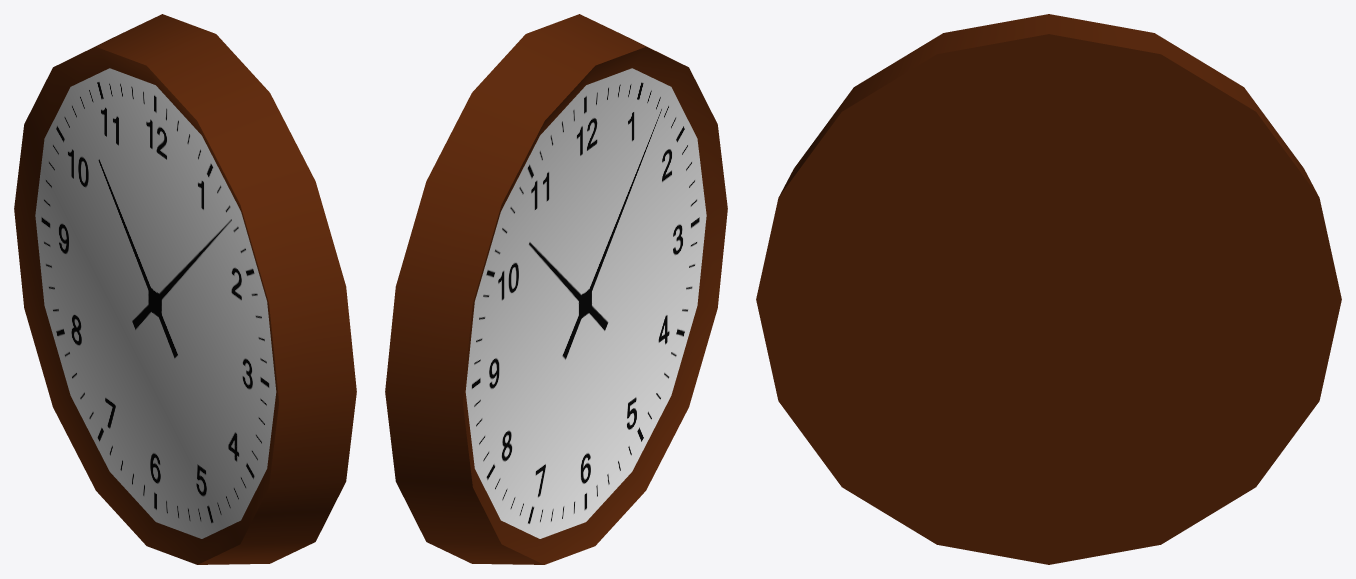
Rendered from clock.fbx.
3 renders of one model, left to right at view 1: azimuth 30°, elevation 25°; view 2: azimuth 150°, elevation 25°; view 3: azimuth 270°, elevation 25°, orthographic. The views are drawn at different scales.
Visible parts, largest first — view 1: Цилиндр; view 2: Цилиндр; view 3: Цилиндр.
Boxes of the visible parts, x1,y1,x2,y2 form: Цилиндр: [14, 14, 356, 564]; Цилиндр: [385, 14, 727, 564]; Цилиндр: [756, 14, 1341, 564].
Size of the model in its own units: 5 by 35 by 35.
2 materials, 1 textured.
